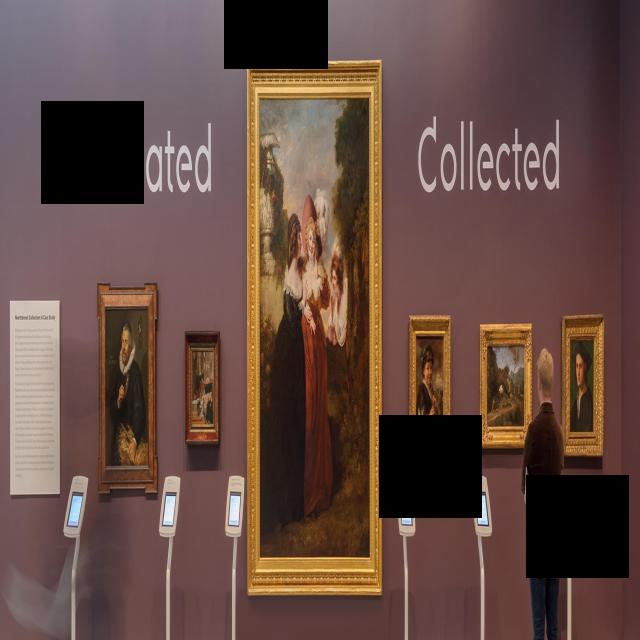Tablo: (259, 96, 370, 559), (105, 306, 148, 468), (487, 344, 524, 426), (416, 336, 444, 437), (570, 338, 594, 432), (191, 350, 214, 425)
